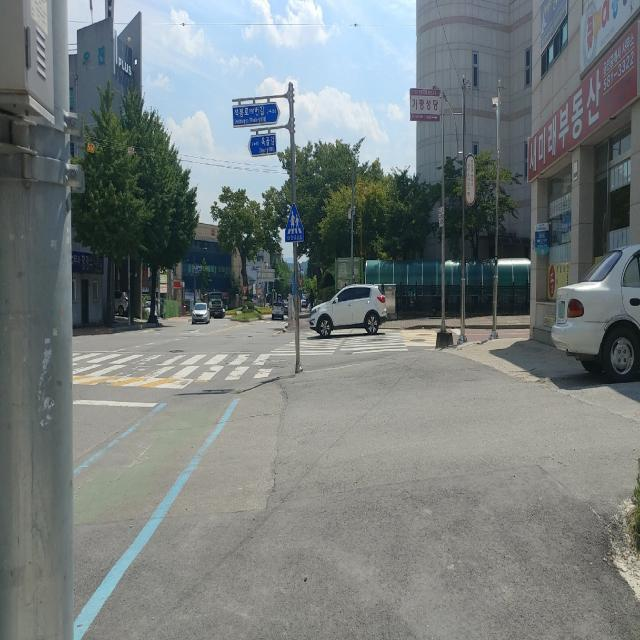횡단보도: (74, 352, 271, 382), (269, 328, 408, 356)
